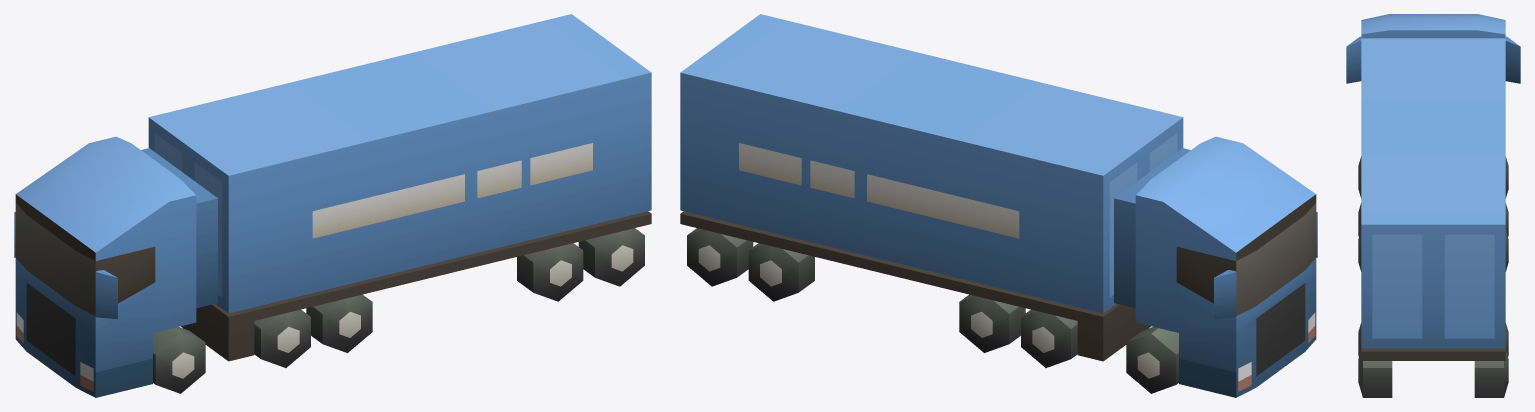
The model's file is SM_Factory_Truck_01.fbx.
3 renders of one model, left to right at view 1: azimuth 30°, elevation 25°; view 2: azimuth 150°, elevation 25°; view 3: azimuth 270°, elevation 25°, orthographic. The views are drawn at different scales.
Visible parts, largest first — view 1: SM_Factory_Truck_01; view 2: SM_Factory_Truck_01; view 3: SM_Factory_Truck_01.
Part boxes in pixels (left/top/right/bottom): SM_Factory_Truck_01: left=14, top=14, right=651, bottom=397; SM_Factory_Truck_01: left=680, top=14, right=1317, bottom=397; SM_Factory_Truck_01: left=1346, top=14, right=1520, bottom=397.
Size of the model in its own units: 3.23 by 1.14 by 0.9642.
